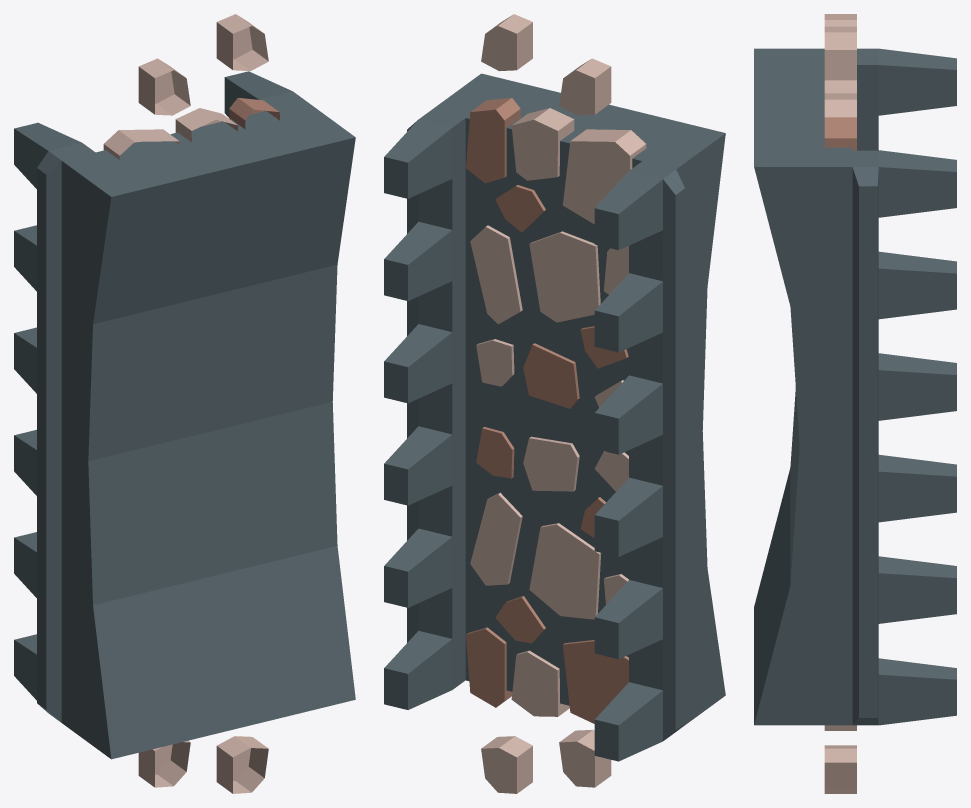
The model's file is Bridge.dae.
The picture shows the model from 3 angles, left to right: view 1: azimuth 30°, elevation 25°; view 2: azimuth 150°, elevation 25°; view 3: azimuth 270°, elevation 25°; orthographic projection.
Parts seen in each view (by area): view 1: Bridge; view 2: Bridge; view 3: Bridge.
Part boxes in pixels (x1,y1,x2,y2): Bridge: [14, 14, 355, 793]; Bridge: [384, 14, 725, 793]; Bridge: [754, 14, 956, 793].
Bounding box in the file's own units: 2.2 × 1.45 × 5.99.
